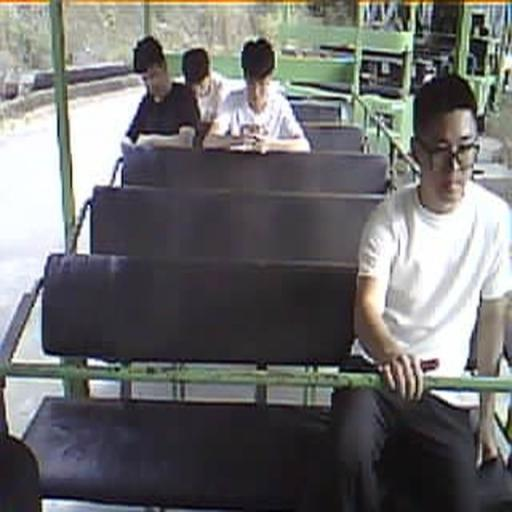persona: (330, 72, 512, 510), (205, 36, 312, 154), (122, 34, 203, 149), (181, 46, 232, 124)
